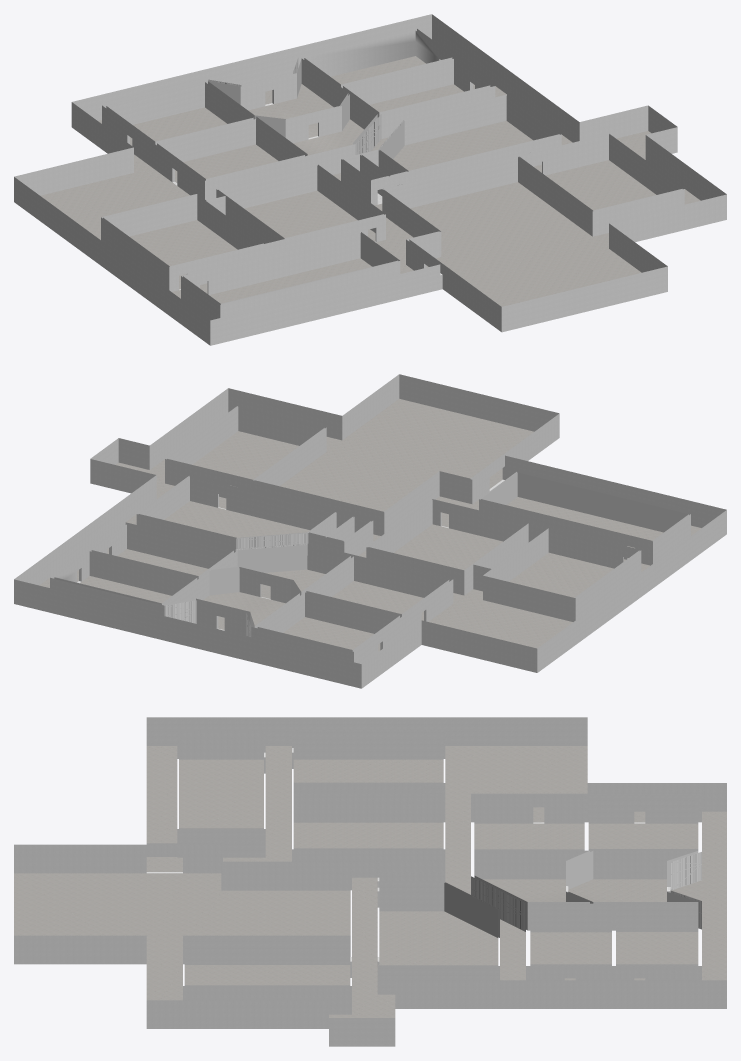
File: School Interior.fbx
The picture shows the model from 3 angles, top to bottom: view 1: azimuth 30°, elevation 25°; view 2: azimuth 150°, elevation 25°; view 3: azimuth 270°, elevation 25°; orthographic projection. The views are drawn at different scales.
Visible parts, largest first — view 1: floor; view 2: floor; view 3: floor.
Part boxes in pixels (x1,y1,x2,y2): floor: [14, 14, 726, 345]; floor: [14, 374, 726, 688]; floor: [14, 717, 726, 1046].
Size of the model in its own units: 19821 by 879 by 19868.
